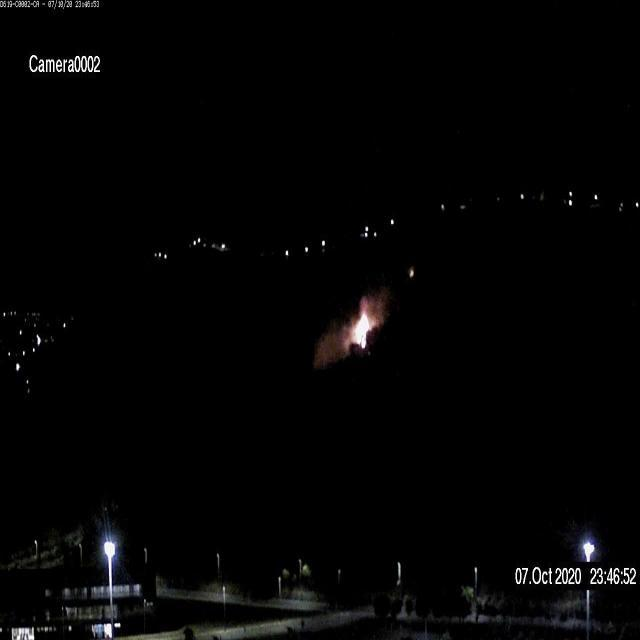Fire: (348, 301, 376, 351)
Smoke: (314, 290, 395, 368)
